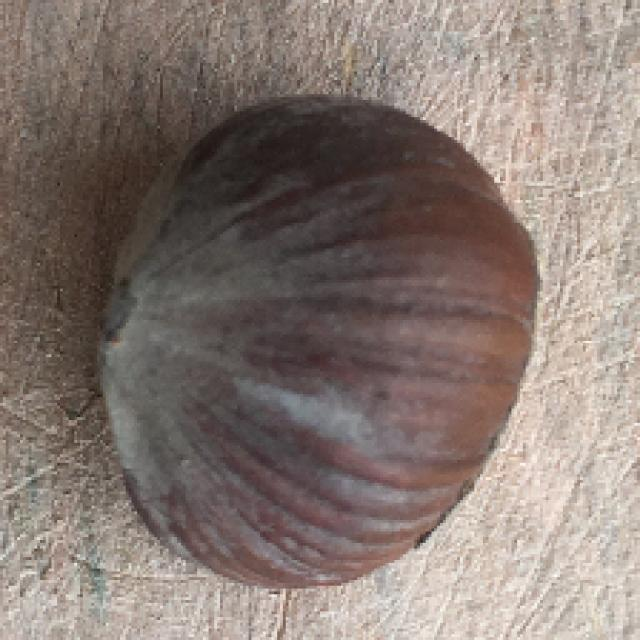damagedHazelnut: (90, 88, 548, 597)
